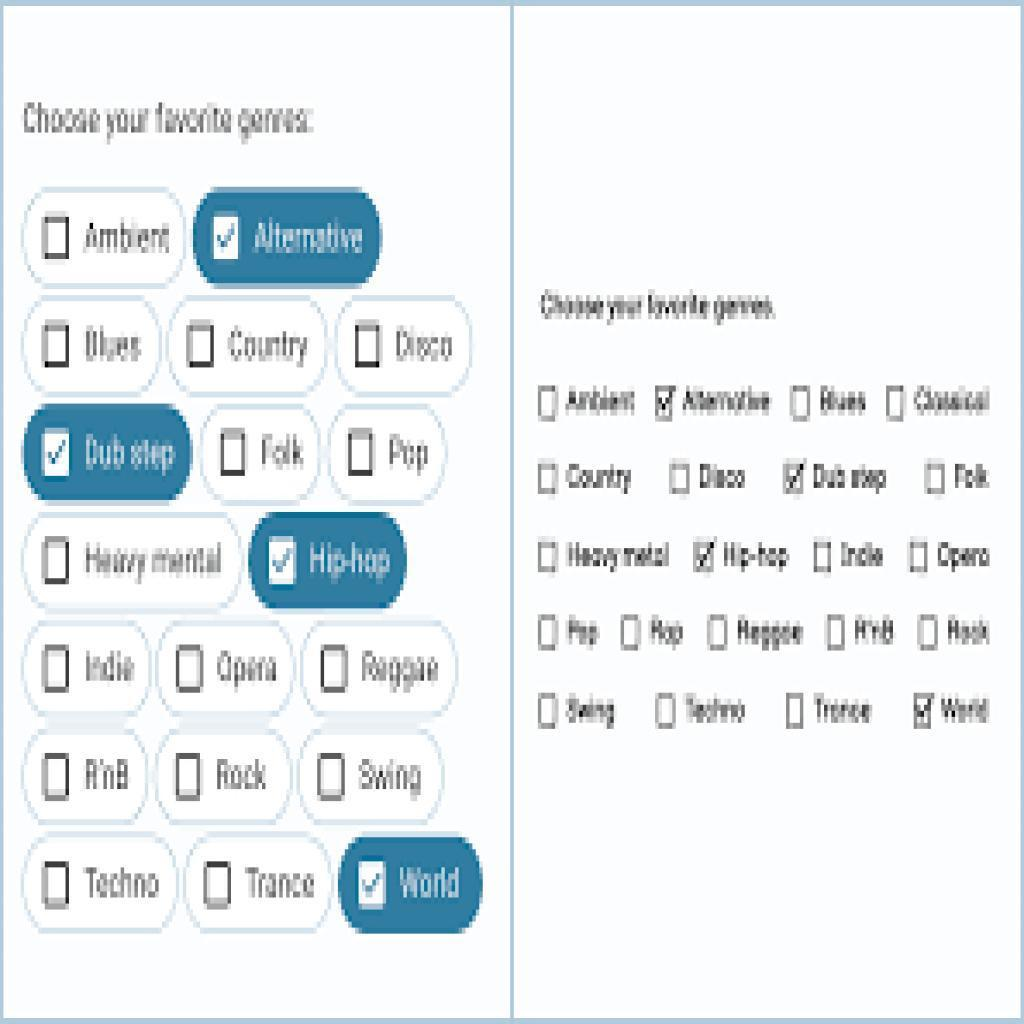checkbox: (320, 645, 352, 694), (42, 322, 73, 372), (267, 538, 298, 588), (174, 645, 205, 695), (347, 427, 376, 479), (43, 429, 73, 479), (360, 860, 389, 911), (41, 861, 71, 910), (317, 752, 347, 800), (42, 752, 70, 803), (218, 427, 247, 476), (44, 535, 71, 587), (187, 321, 216, 369), (214, 215, 242, 263), (44, 647, 72, 695), (175, 752, 202, 801), (204, 861, 232, 908), (43, 216, 72, 261), (355, 324, 383, 369), (536, 387, 562, 424), (785, 694, 808, 734), (537, 614, 561, 652), (924, 461, 949, 497), (781, 462, 807, 496), (620, 614, 643, 651), (654, 692, 677, 729), (885, 384, 907, 422), (707, 615, 730, 651), (919, 617, 942, 653), (913, 695, 937, 729), (538, 692, 560, 729), (538, 462, 560, 498), (668, 462, 692, 495), (825, 615, 847, 651), (790, 387, 812, 422), (655, 385, 676, 421), (814, 540, 835, 574), (694, 542, 716, 573), (910, 541, 930, 575), (538, 542, 559, 573)
